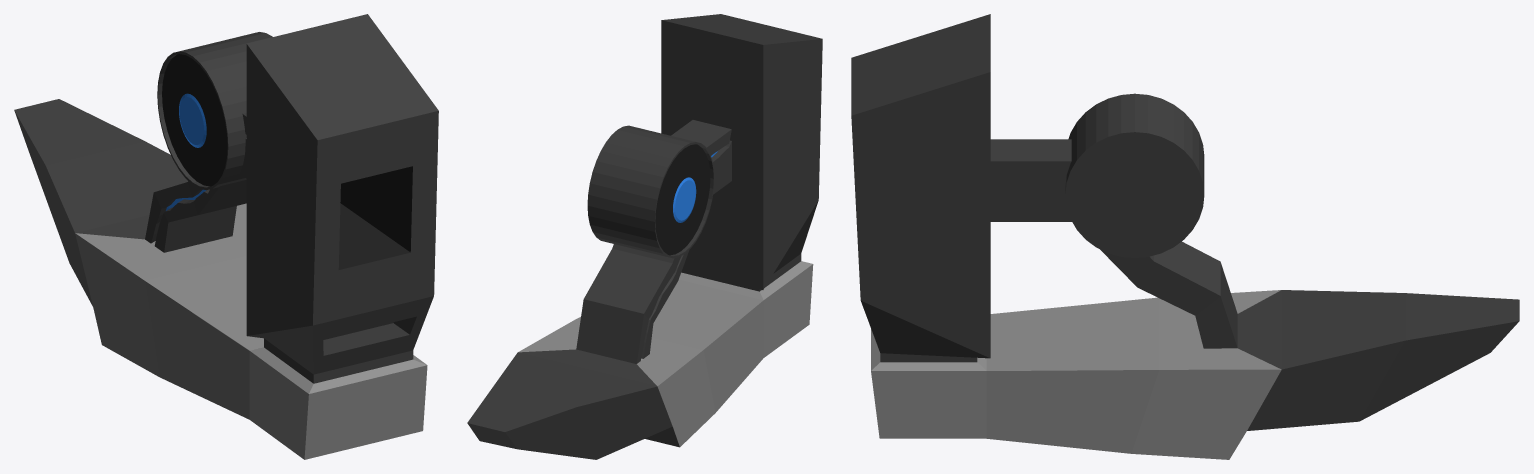
File: weapons.glb
The picture shows the model from 3 angles, left to right: view 1: azimuth 30°, elevation 25°; view 2: azimuth 150°, elevation 25°; view 3: azimuth 270°, elevation 25°; orthographic projection. The views are drawn at different scales.
Parts seen in each view (by area): view 1: weap.destroyer; view 2: weap.destroyer; view 3: weap.destroyer.
Part boxes in pixels (x1,y1,x2,y2): weap.destroyer: (14,14,438,459); weap.destroyer: (467,14,822,459); weap.destroyer: (851,14,1519,459).
Bounding box in the file's own units: 0.3847 × 0.849 × 1.36.
Materials: 1 (1 with a texture image).
